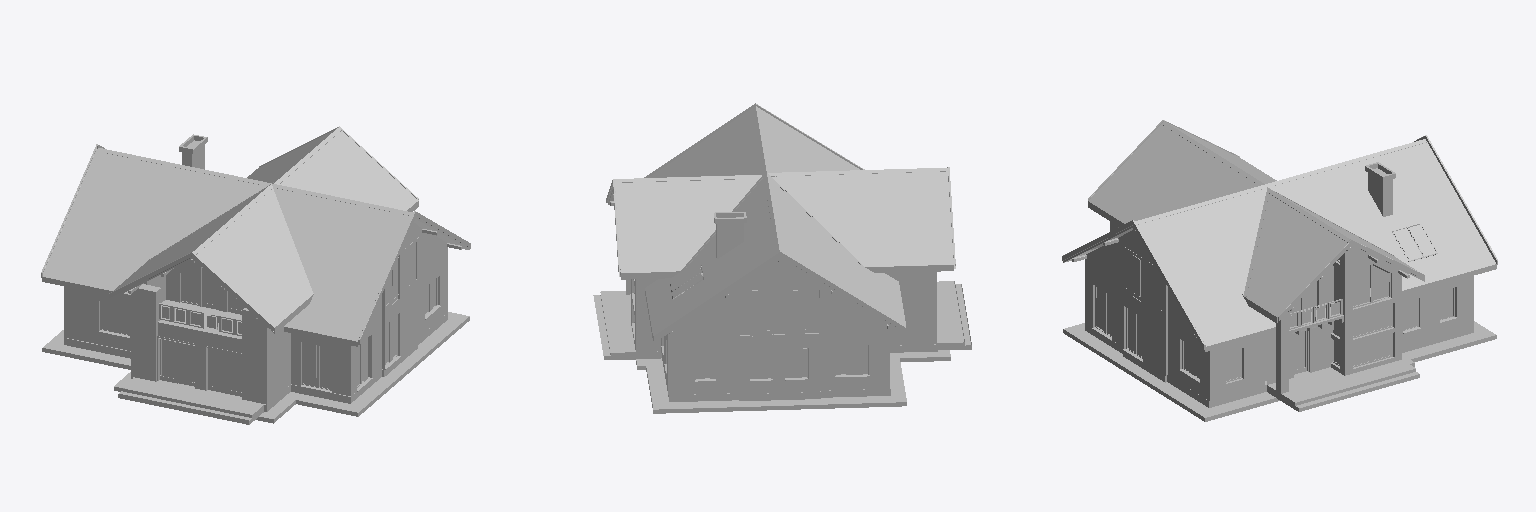
The model's file is house.obj.
The picture shows the model from 3 angles: view 1: azimuth 30°, elevation 25°; view 2: azimuth 150°, elevation 25°; view 3: azimuth 270°, elevation 25°; orthographic projection.
Visible parts, largest first — view 1: www_a_r_66, www_a_r_65, www_a_r_74, glass, www_a_r_62, www_a_r_78, www_a_r_61, www_a_r_73, www_a_r_45, www_a_r_71, www_a_r_68, www_a_r_44 (+1 smaller); view 2: www_a_r_66, www_a_r_65, www_a_r_74, www_a_r_62, glass, www_a_r_71, www_a_r_61, www_a_r_73, www_a_r_45, www_a_r_78, www_a_r_44, www_a_r_67 (+1 smaller); view 3: www_a_r_66, www_a_r_74, glass, www_a_r_65, www_a_r_78, www_a_r_62, www_a_r_61, www_a_r_73, www_a_r_71, www_a_r_45, www_a_r_44, www_a_r_68 (+1 smaller).
Boxes of the visible parts, x1,y1,x2,y2 form: www_a_r_66: [43, 130, 418, 341]; www_a_r_65: [64, 222, 447, 404]; www_a_r_74: [64, 226, 447, 395]; glass: [102, 243, 435, 391]; www_a_r_62: [42, 312, 469, 423]; www_a_r_78: [99, 199, 440, 396]; www_a_r_61: [97, 128, 412, 295]; www_a_r_73: [64, 313, 447, 424]; www_a_r_45: [41, 126, 470, 344]; www_a_r_71: [119, 377, 264, 420]; www_a_r_68: [42, 217, 469, 346]; www_a_r_44: [179, 134, 207, 169]; www_a_r_66: [615, 108, 953, 335]; www_a_r_65: [626, 261, 936, 393]; www_a_r_74: [631, 279, 889, 394]; www_a_r_62: [636, 350, 950, 413]; glass: [671, 265, 867, 378]; www_a_r_71: [593, 281, 970, 355]; www_a_r_61: [615, 106, 947, 271]; www_a_r_73: [600, 281, 971, 401]; www_a_r_45: [606, 103, 955, 340]; www_a_r_78: [634, 266, 869, 381]; www_a_r_44: [714, 212, 746, 258]; www_a_r_67: [608, 190, 953, 279]; www_a_r_66: [1088, 124, 1495, 346]; www_a_r_74: [1085, 236, 1473, 400]; glass: [1097, 224, 1452, 380]; www_a_r_65: [1110, 222, 1473, 393]; www_a_r_78: [1092, 224, 1457, 384]; www_a_r_62: [1063, 321, 1496, 421]; www_a_r_61: [1135, 121, 1426, 297]; www_a_r_73: [1085, 324, 1473, 411]; www_a_r_71: [1268, 360, 1418, 407]; www_a_r_45: [1062, 120, 1497, 349]; www_a_r_44: [1365, 162, 1395, 216]; www_a_r_68: [1063, 224, 1496, 351].
Size of the model in its own units: 340 by 148 by 364.